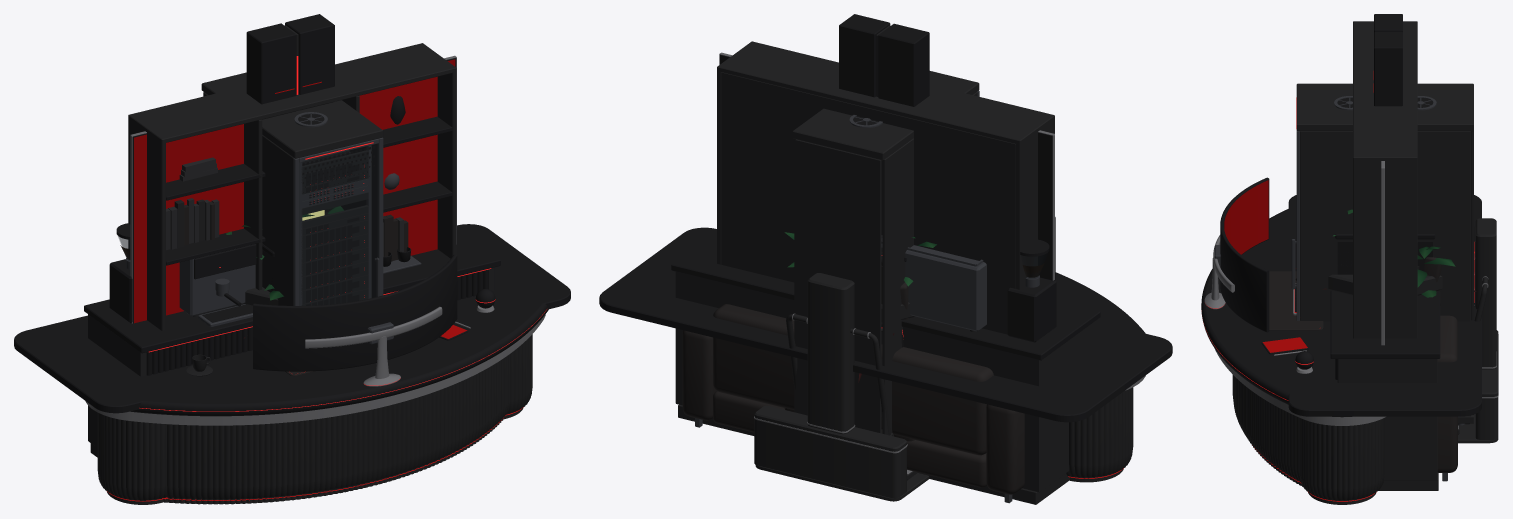
The model's file is props.glb.
3 renders of one model, left to right at view 1: azimuth 30°, elevation 25°; view 2: azimuth 150°, elevation 25°; view 3: azimuth 270°, elevation 25°, orthographic. The views are drawn at different scales.
Parts seen in each view (by area): view 1: exec_desk__black_gloss, exec_desk__black_satin, exec_shelf__black_matte, server_rack__black_matte, wall_screen__screen, coffee_bar__black_gloss, server_rack__glass_dark, meeting_table__black_gloss, data_monolith__black_gloss, exec_desk__metal_brushed, exec_shelf__black_gloss, server_rack__black_gloss (+7 smaller); view 2: exec_shelf__black_matte, server_rack__black_matte, sofa__leather, archive_bay__black_matte, meeting_table__black_gloss, coffee_bar__black_matte, coffee_bar__black_gloss, data_monolith__black_gloss, coffee_bar__metal_dark, exec_desk__black_gloss, exec_desk__black_satin, wall_screen__black_gloss (+1 smaller); view 3: server_rack__black_matte, exec_shelf__black_matte, exec_desk__black_gloss, meeting_table__black_gloss, exec_desk__black_satin, coffee_bar__black_matte, archive_bay__black_matte, coffee_bar__black_gloss, data_monolith__black_gloss, exec_desk__screen_exec, sofa__leather, exec_desk__metal_brushed (+8 smaller).
Boxes of the visible parts, x1,y1,x2,y2 form: exec_desk__black_gloss: (81, 254, 548, 416); exec_desk__black_satin: (97, 334, 532, 500); exec_shelf__black_matte: (128, 43, 456, 330); server_rack__black_matte: (201, 72, 383, 305); wall_screen__screen: (134, 59, 455, 323); coffee_bar__black_gloss: (84, 223, 500, 375); server_rack__glass_dark: (299, 144, 378, 305); meeting_table__black_gloss: (14, 224, 570, 413); data_monolith__black_gloss: (246, 14, 334, 212); exec_desk__metal_brushed: (85, 306, 545, 425); exec_shelf__black_gloss: (166, 96, 452, 329); server_rack__black_gloss: (298, 114, 375, 305); exec_shelf__black_matte: (717, 41, 1054, 334); server_rack__black_matte: (792, 71, 979, 436); sofa__leather: (682, 304, 1024, 494); archive_bay__black_matte: (754, 273, 929, 501); meeting_table__black_gloss: (599, 227, 1172, 422); coffee_bar__black_matte: (675, 271, 1093, 504); coffee_bar__black_gloss: (671, 232, 1100, 360); data_monolith__black_gloss: (839, 14, 929, 106); coffee_bar__metal_dark: (881, 235, 1039, 331); exec_desk__black_gloss: (668, 217, 1150, 374); exec_desk__black_satin: (1066, 387, 1133, 477); wall_screen__black_gloss: (720, 54, 1052, 280); server_rack__black_matte: (1296, 83, 1473, 423); exec_shelf__black_matte: (1353, 21, 1417, 338); exec_desk__black_gloss: (1201, 177, 1400, 417); meeting_table__black_gloss: (1288, 195, 1481, 416); exec_desk__black_satin: (1232, 375, 1384, 500); coffee_bar__black_matte: (1337, 359, 1438, 490); archive_bay__black_matte: (1458, 218, 1498, 443); coffee_bar__black_gloss: (1330, 291, 1440, 379); data_monolith__black_gloss: (1374, 14, 1402, 106); exec_desk__screen_exec: (1224, 180, 1268, 254); sofa__leather: (1437, 315, 1457, 472); exec_desk__metal_brushed: (1204, 235, 1385, 425).
Size of the model in its own units: 3.2 by 2.6 by 1.84.
